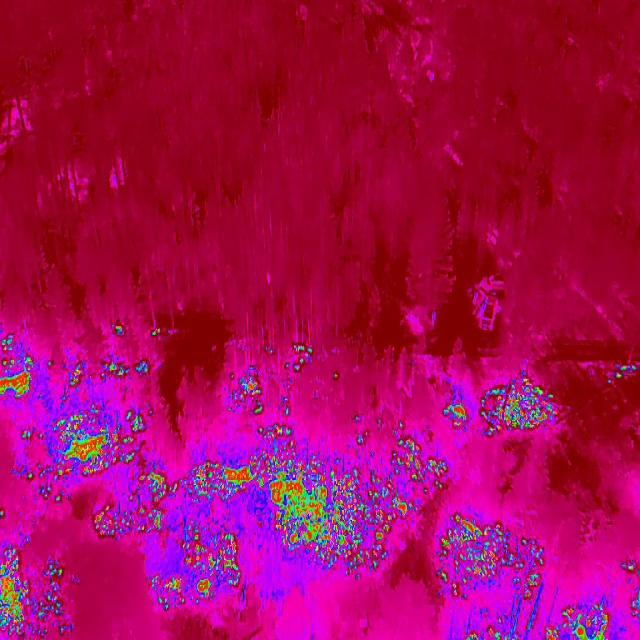fire: (150, 421, 452, 609), (18, 398, 170, 541), (432, 510, 545, 602), (228, 342, 322, 422), (71, 318, 161, 392), (0, 545, 63, 640), (474, 372, 561, 440), (542, 592, 615, 640), (0, 337, 37, 411), (453, 615, 522, 640), (617, 550, 640, 616), (442, 398, 470, 434), (610, 361, 640, 387)
